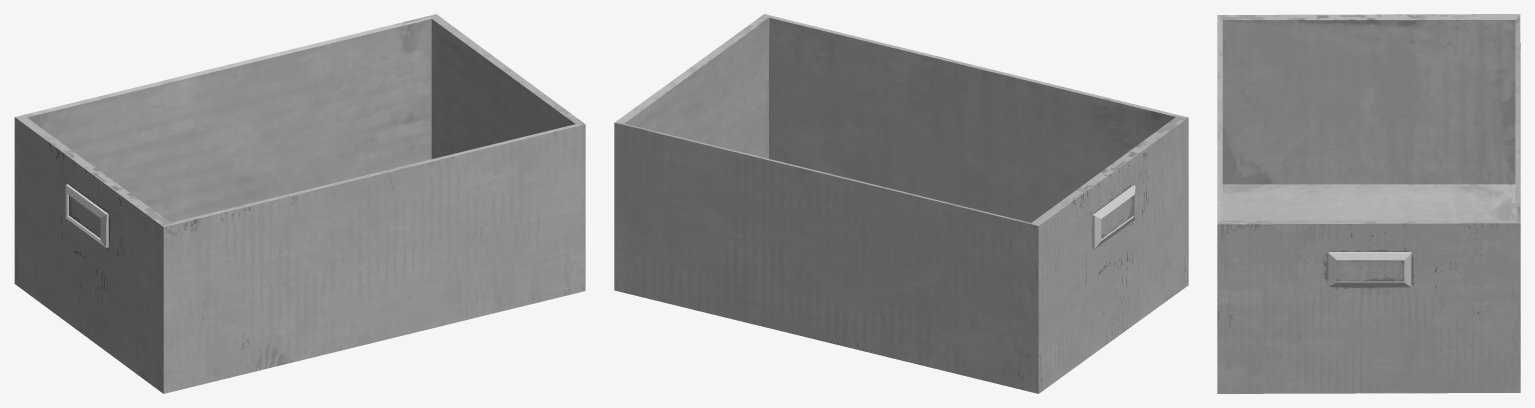
3 views of the same model, side by side, from view 1: azimuth 30°, elevation 25°; view 2: azimuth 150°, elevation 25°; view 3: azimuth 270°, elevation 25° (orthographic).
Parts seen in each view (by area): view 1: SM_Box_A1; view 2: SM_Box_A1; view 3: SM_Box_A1.
Boxes of the visible parts, box(x1,y1,x2,y2) form: SM_Box_A1: box(14, 14, 585, 393); SM_Box_A1: box(614, 14, 1188, 393); SM_Box_A1: box(1217, 14, 1520, 393).
Bounding box in the file's own units: 42.55 × 25.47 × 15.82.
1 material, 1 textured.
